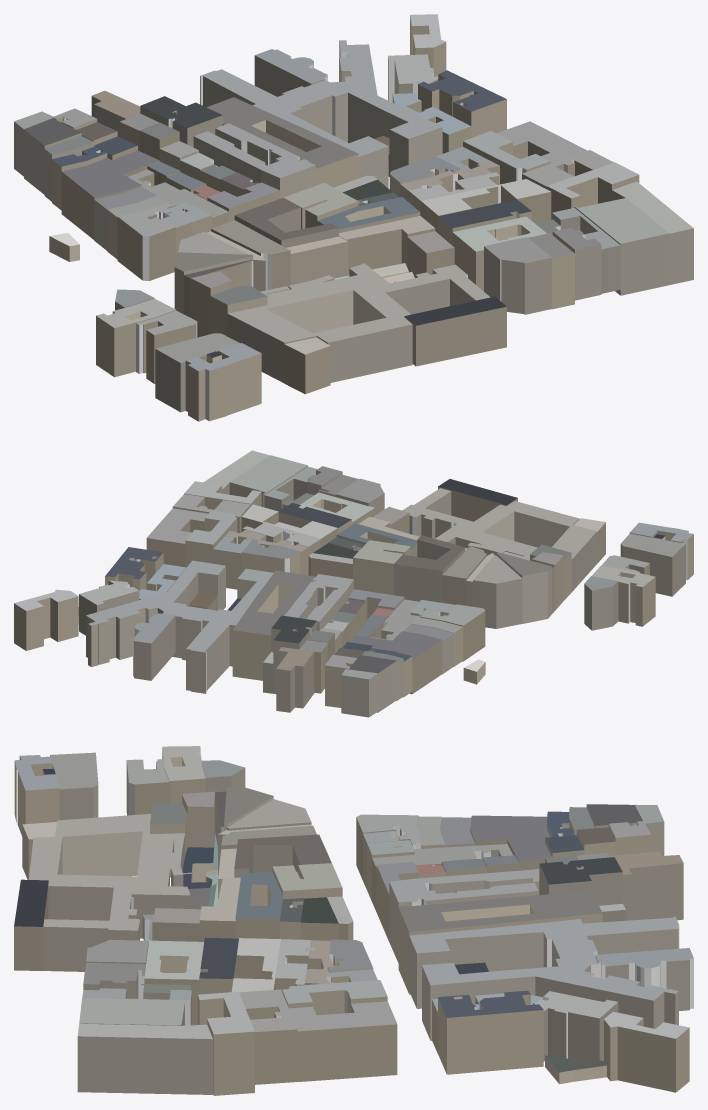
The picture shows the model from 3 angles, top to bottom: view 1: azimuth 30°, elevation 25°; view 2: azimuth 150°, elevation 25°; view 3: azimuth 270°, elevation 25°; orthographic projection. The views are drawn at different scales.
Parts seen in each view (by area): view 1: tuile; view 2: tuile; view 3: tuile.
Boxes of the visible parts, <box> form: tuile: <box>14,14,693,421</box>; tuile: <box>14,450,693,717</box>; tuile: <box>14,746,693,1095</box>.
Size of the model in its own units: 275 by 31.86 by 266.
